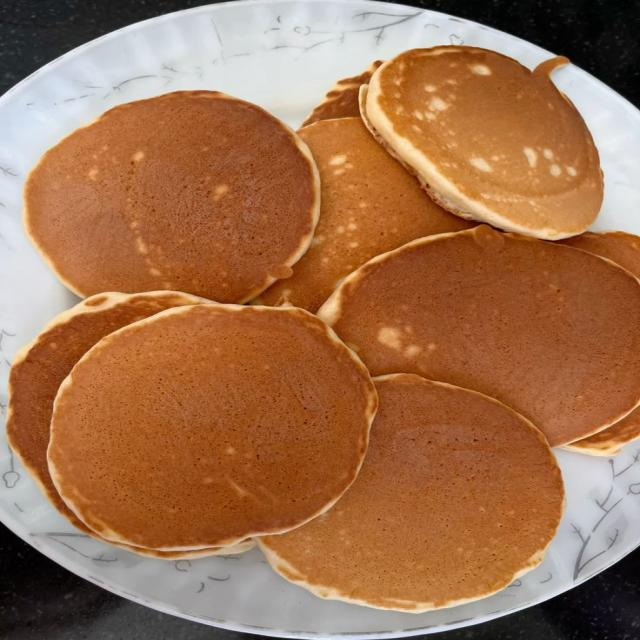pancake: (48, 305, 376, 550), (257, 375, 563, 612), (319, 226, 639, 446), (25, 91, 319, 302), (7, 291, 208, 538), (361, 46, 602, 239), (257, 118, 473, 312), (302, 61, 382, 126), (560, 231, 639, 277), (562, 231, 639, 277), (565, 409, 639, 456)
